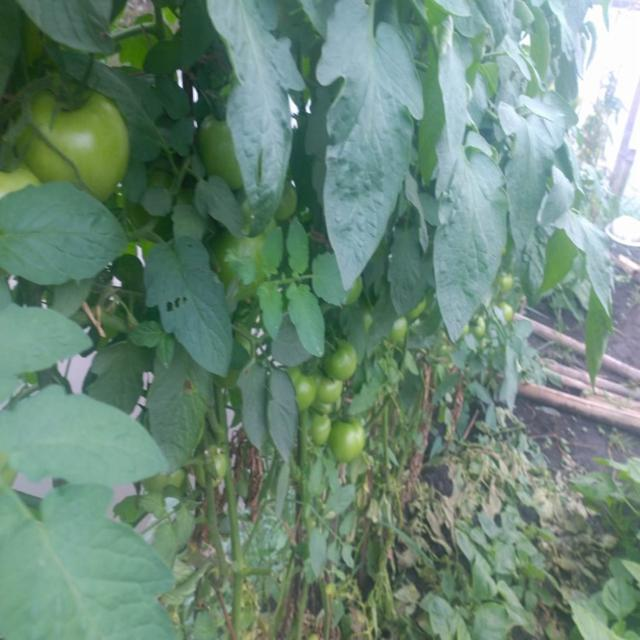tomato: (32, 87, 128, 190), (202, 105, 237, 181), (331, 414, 369, 469), (327, 341, 361, 384), (313, 373, 348, 410), (243, 224, 269, 273), (307, 404, 333, 451), (1, 165, 35, 197), (296, 368, 319, 411), (143, 475, 190, 490), (212, 448, 232, 479), (385, 323, 408, 348), (500, 303, 517, 326), (470, 316, 488, 336), (502, 270, 516, 292)
